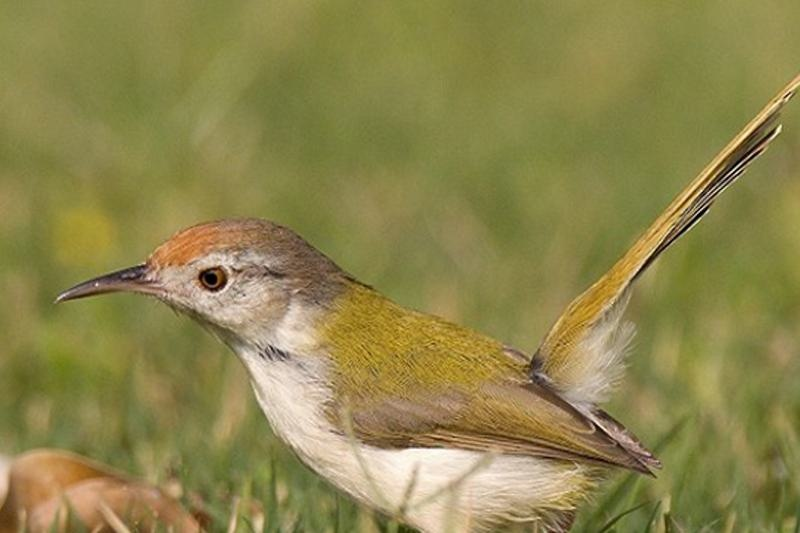tailorbird: (72, 78, 800, 533)
